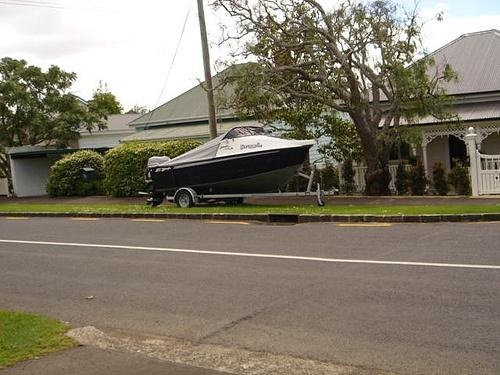boat: (140, 124, 316, 206)
